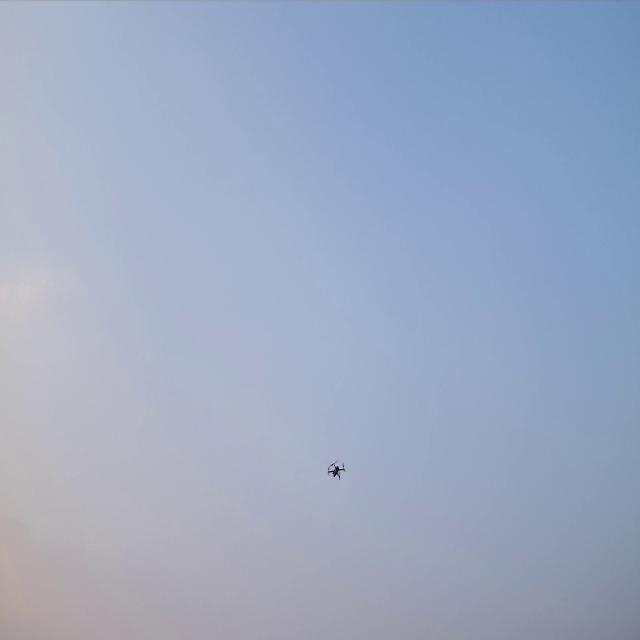UAV: (327, 458, 346, 482)
